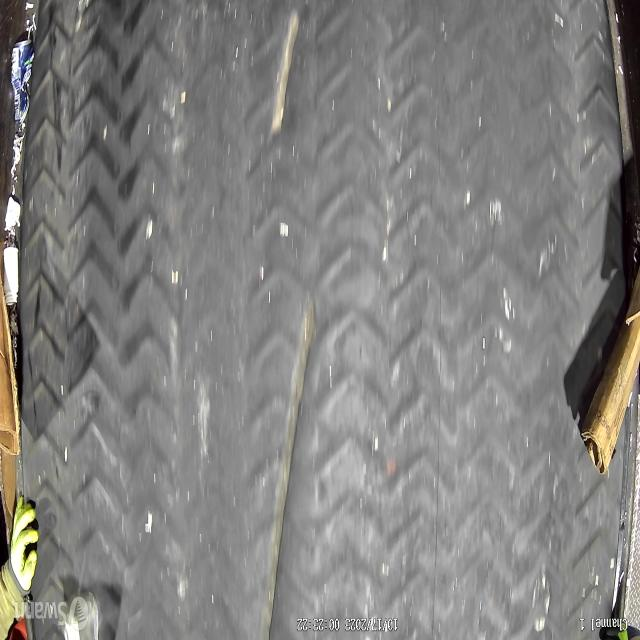can: (11, 40, 31, 126)
